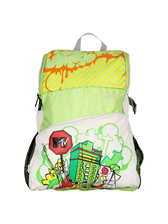bag: (25, 32, 147, 195)
